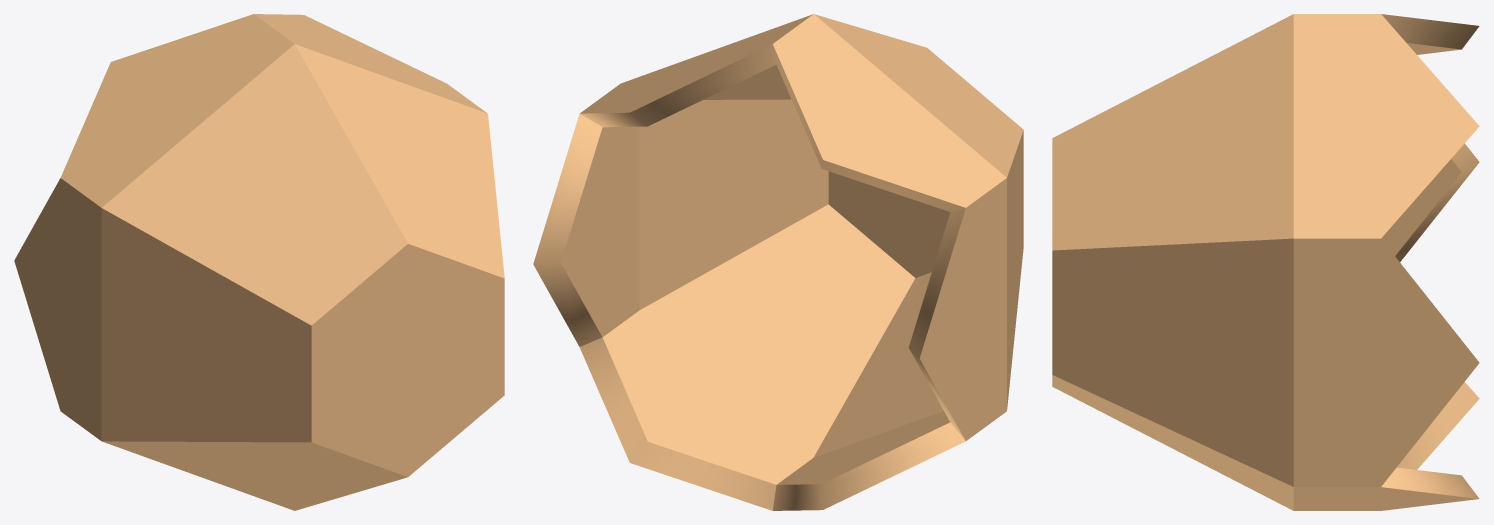
Rendered from eggshell_pointy_half_collision.obj.
3 renders of one model, left to right at view 1: azimuth 30°, elevation 25°; view 2: azimuth 150°, elevation 25°; view 3: azimuth 270°, elevation 25°, orthographic. The views are drawn at different scales.
Visible parts, largest first — view 1: egg.011, egg.012, egg.009, egg.010, egg.005, egg.006, egg.013, egg.004; view 2: egg.014, egg.003, egg.008, egg.005, egg, egg.006, egg.011, egg.013, egg.004, egg.007, egg.009, egg.012 (+1 smaller); view 3: egg.003, egg.010, egg, egg.004, egg.008, egg.014, egg.006, egg.005, egg.007.
Boxes of the visible parts, x1,y1,x2,y2 form: egg.011: [102, 44, 407, 325]; egg.012: [101, 208, 311, 442]; egg.009: [311, 244, 504, 476]; egg.010: [295, 44, 504, 278]; egg.005: [60, 14, 294, 207]; egg.006: [14, 178, 101, 440]; egg.013: [102, 441, 407, 510]; egg.004: [254, 14, 486, 112]; egg.014: [640, 204, 915, 457]; egg.003: [639, 99, 828, 309]; egg.008: [579, 310, 812, 510]; egg.005: [772, 14, 1006, 211]; egg: [533, 113, 639, 346]; egg.006: [908, 178, 1006, 440]; egg.011: [814, 14, 1023, 177]; egg.013: [813, 272, 943, 457]; egg.004: [580, 14, 812, 127]; egg.007: [772, 411, 965, 510]; egg.009: [828, 171, 950, 277]; egg.012: [1007, 131, 1023, 409]; egg.003: [1052, 238, 1293, 486]; egg.010: [1052, 14, 1293, 250]; egg: [1293, 238, 1479, 486]; egg.004: [1293, 14, 1479, 238]; egg.008: [1293, 467, 1479, 510]; egg.014: [1052, 375, 1293, 510]; egg.006: [1381, 143, 1479, 261]; egg.005: [1381, 14, 1479, 54]; egg.007: [1397, 382, 1479, 469].
Size of the model in its own units: 0.1161 by 0.134 by 0.1045.
